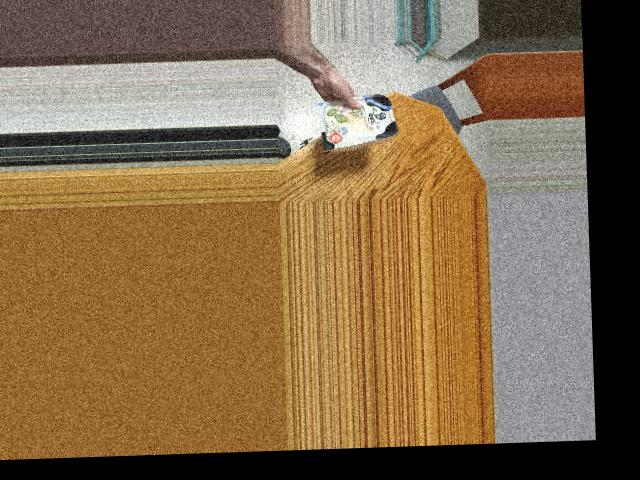cheese: (313, 79, 397, 155)
